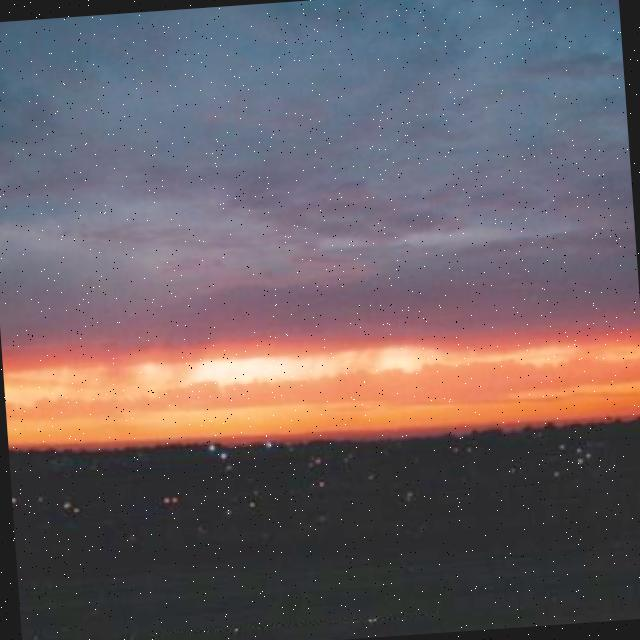As: (1, 1, 640, 439)
